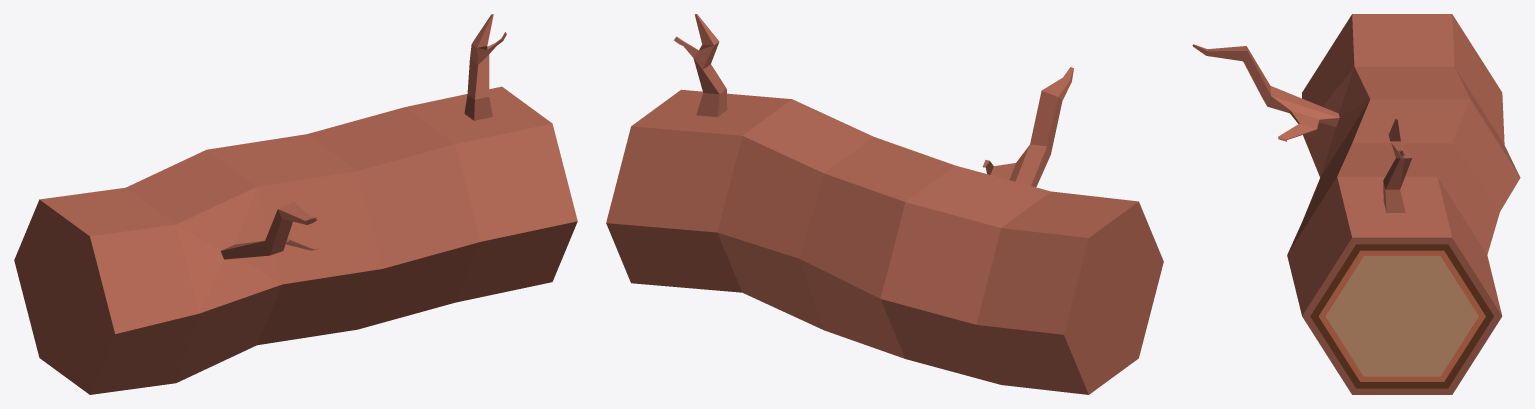
Rendered from log attack.fbx.
The picture shows the model from 3 angles, left to right: view 1: azimuth 30°, elevation 25°; view 2: azimuth 150°, elevation 25°; view 3: azimuth 270°, elevation 25°; orthographic projection.
Parts seen in each view (by area): view 1: Cylinder; view 2: Cylinder; view 3: Cylinder.
Boxes of the visible parts, x1,y1,x2,y2 form: Cylinder: [14, 14, 577, 394]; Cylinder: [606, 14, 1163, 394]; Cylinder: [1192, 14, 1520, 394].
Size of the model in its own units: 529 by 296 by 328.
